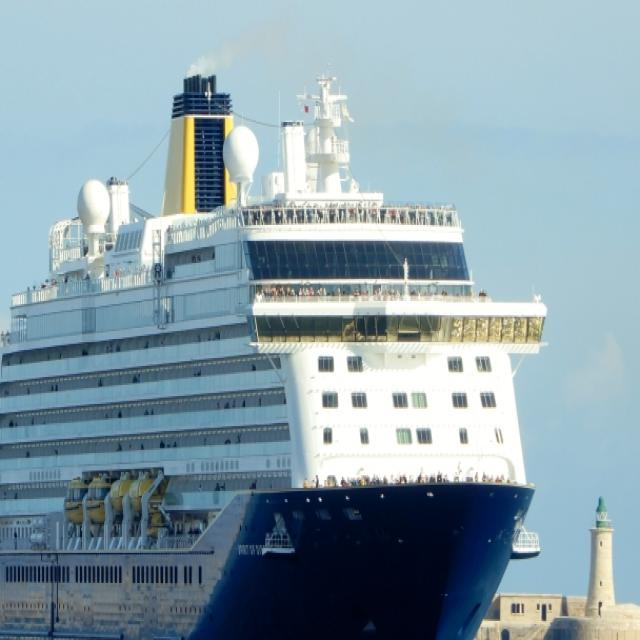cruises: (1, 55, 553, 640)
